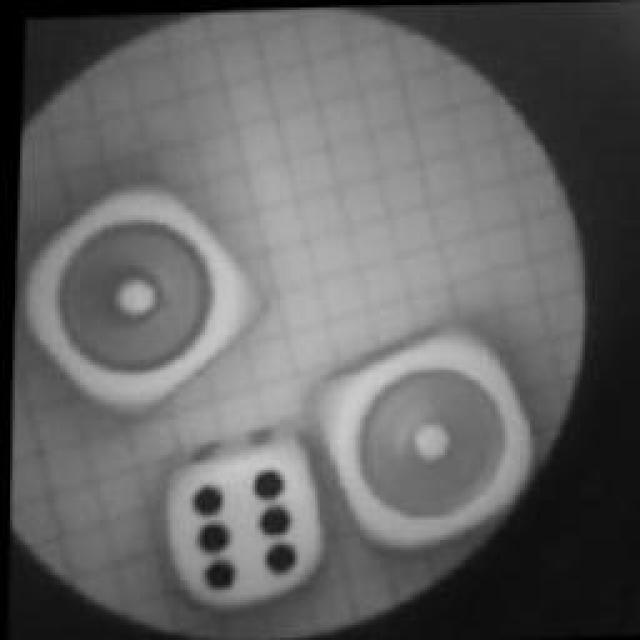dice_1: (10, 167, 272, 425), (302, 316, 548, 562)
dice_6: (150, 428, 330, 614)
